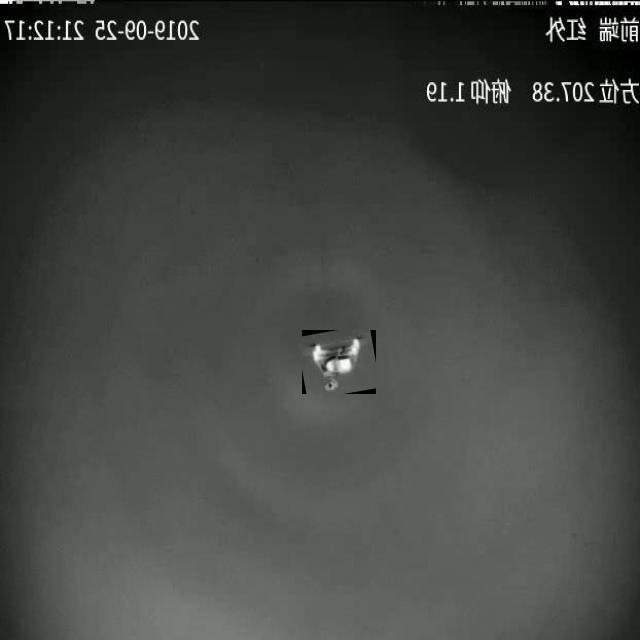drone: (302, 330, 376, 394)
